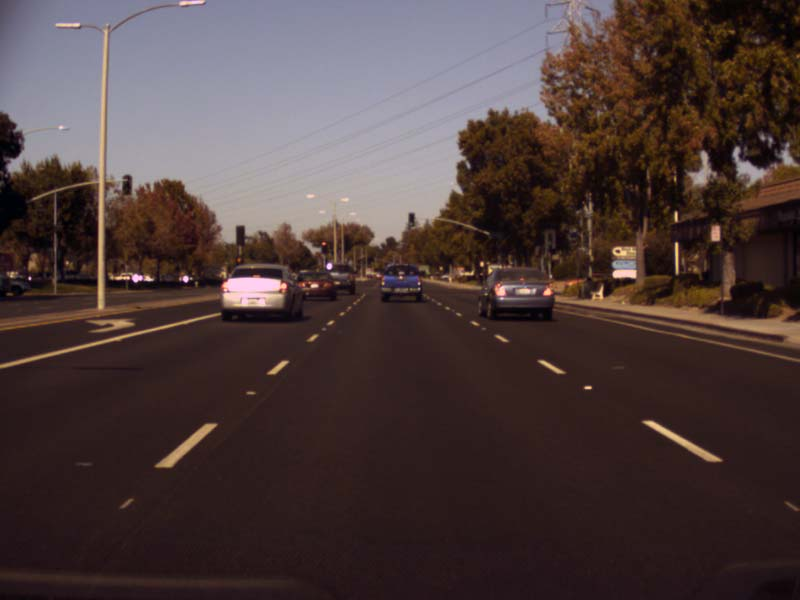Green: (408, 212, 416, 227), (547, 234, 551, 248)
Red: (234, 254, 243, 272), (320, 240, 327, 254)
